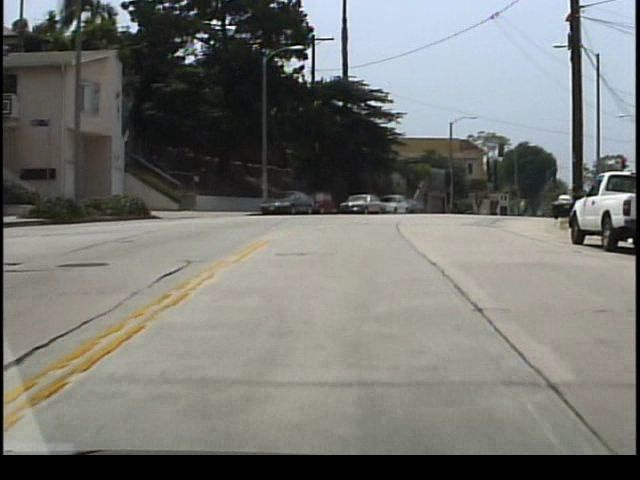person: (518, 198, 528, 219)
